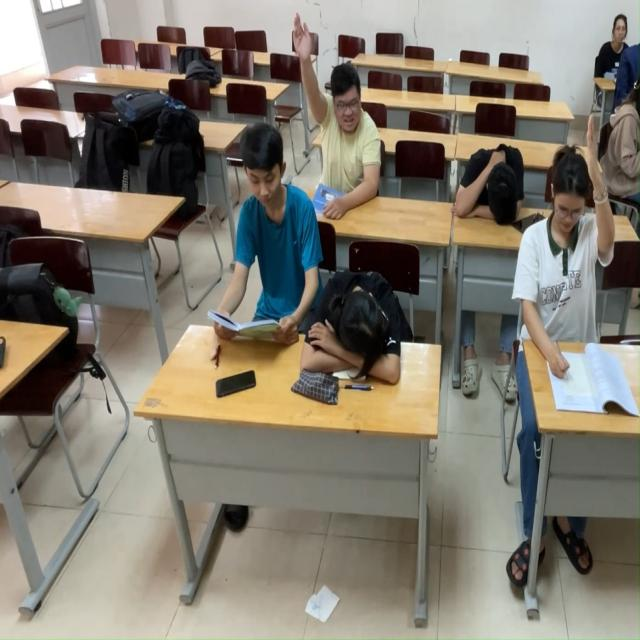raise_hand: (518, 103, 616, 417), (287, 10, 387, 228)
read: (215, 131, 327, 370)
